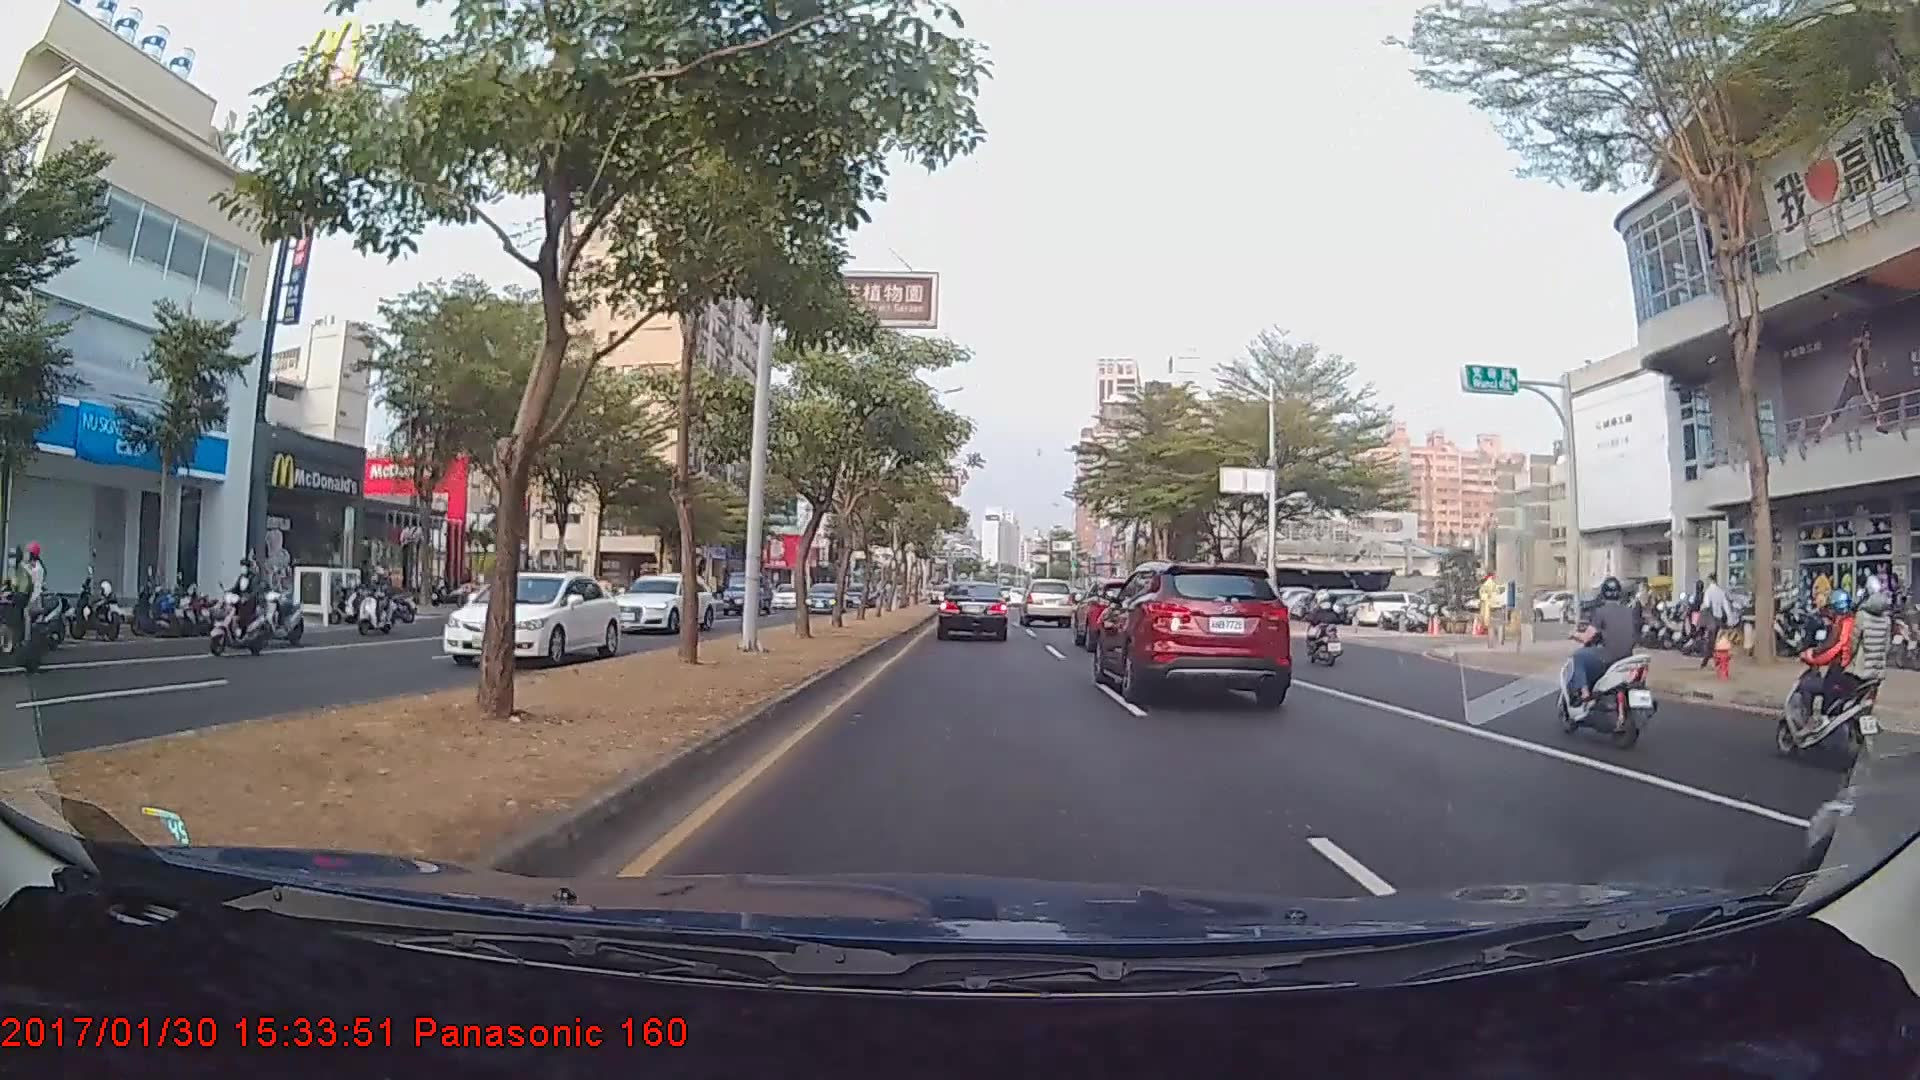pedestrian: (1698, 570, 1732, 667)
rider: (1777, 572, 1901, 754), (1548, 572, 1668, 748), (203, 553, 278, 665), (353, 566, 412, 645), (1300, 586, 1348, 668)
vehicle: (1095, 562, 1290, 703), (440, 571, 621, 670), (1072, 577, 1169, 654), (596, 575, 712, 634), (936, 579, 1009, 641), (1019, 577, 1077, 627), (721, 571, 772, 616)
